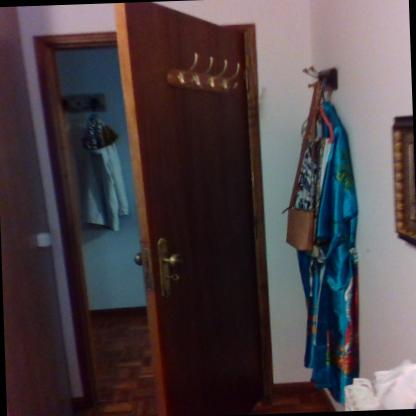semi: (31, 0, 277, 416)
